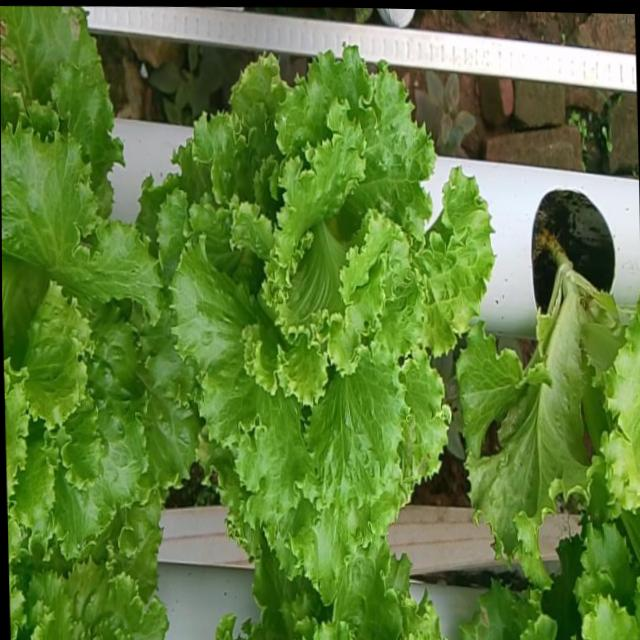Mature: (165, 27, 501, 567), (1, 102, 204, 545)
